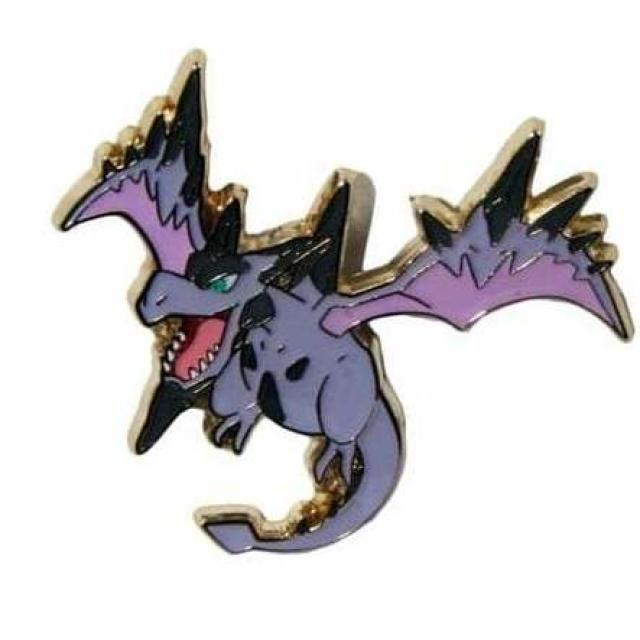Aerodactyl: (133, 186, 390, 448)
